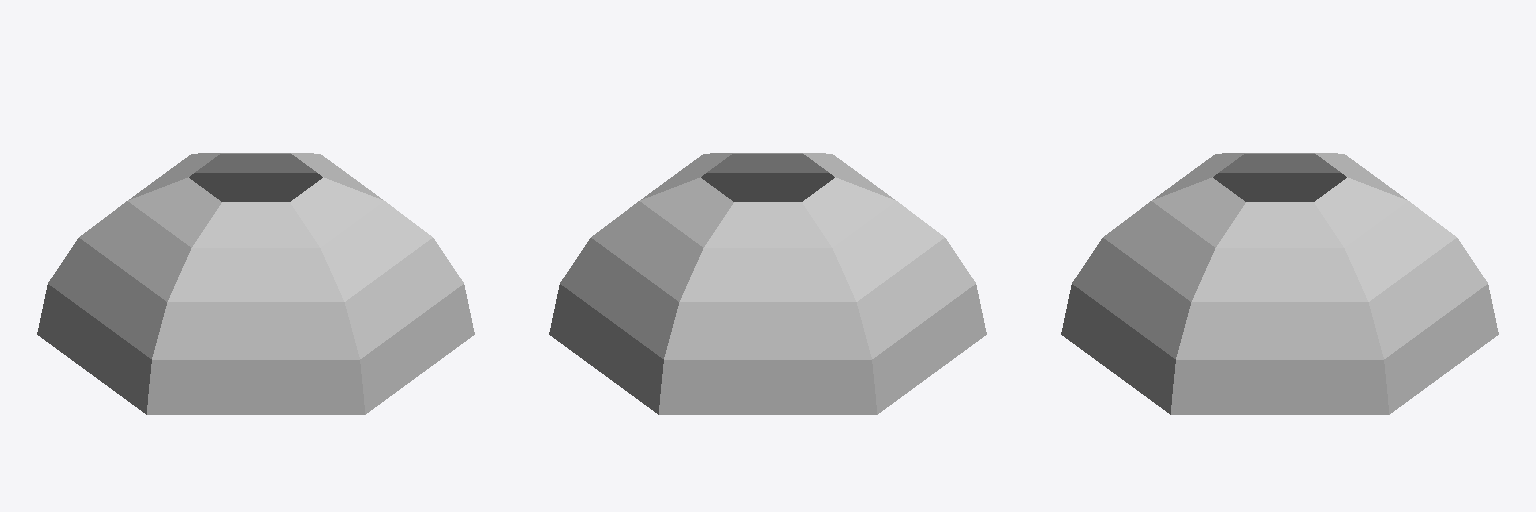
The model's file is dome.obj.
The picture shows the model from 3 angles: view 1: azimuth 30°, elevation 25°; view 2: azimuth 150°, elevation 25°; view 3: azimuth 270°, elevation 25°; orthographic projection.
Visible parts, largest first — view 1: Cylinder.009_Cylinder.018; view 2: Cylinder.009_Cylinder.018; view 3: Cylinder.009_Cylinder.018.
Boxes of the visible parts, x1,y1,x2,y2 form: Cylinder.009_Cylinder.018: [37, 153, 474, 414]; Cylinder.009_Cylinder.018: [549, 153, 986, 414]; Cylinder.009_Cylinder.018: [1061, 153, 1498, 414].
Size of the model in its own units: 14 by 6.41 by 16.17.